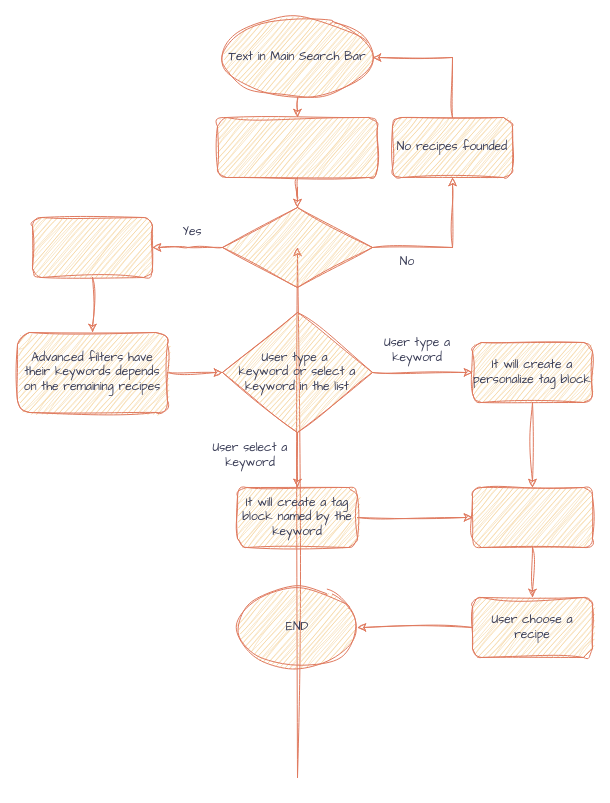
The diagram is 610 pixels wide and 803 high, and some of its shapes have lost their labels. The shapes that lost their labels are listed below. From the top down, each one's centre as x and y in pixels, then its label:
At (x=297, y=147): "Get datas from the main search bar".
At (x=92, y=247): "Refresh interface with results".
At (x=297, y=247): "Is a title or description or ingredients ?".
At (x=532, y=517): "Display the results depends on the keyword".
